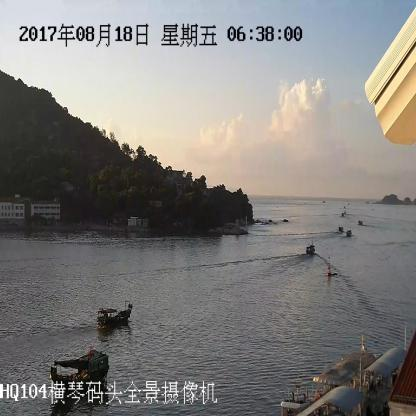Fishing Boat: (50, 353, 109, 380), (98, 305, 134, 327), (307, 243, 315, 254)
